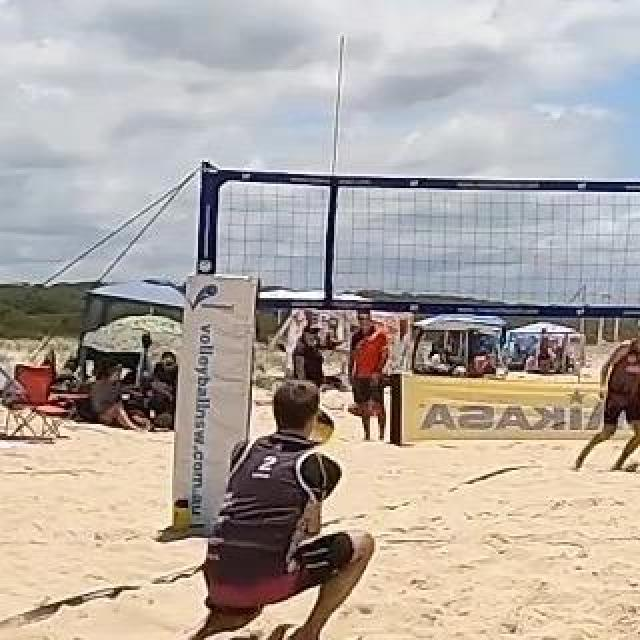volleyball: (296, 405, 334, 447)
